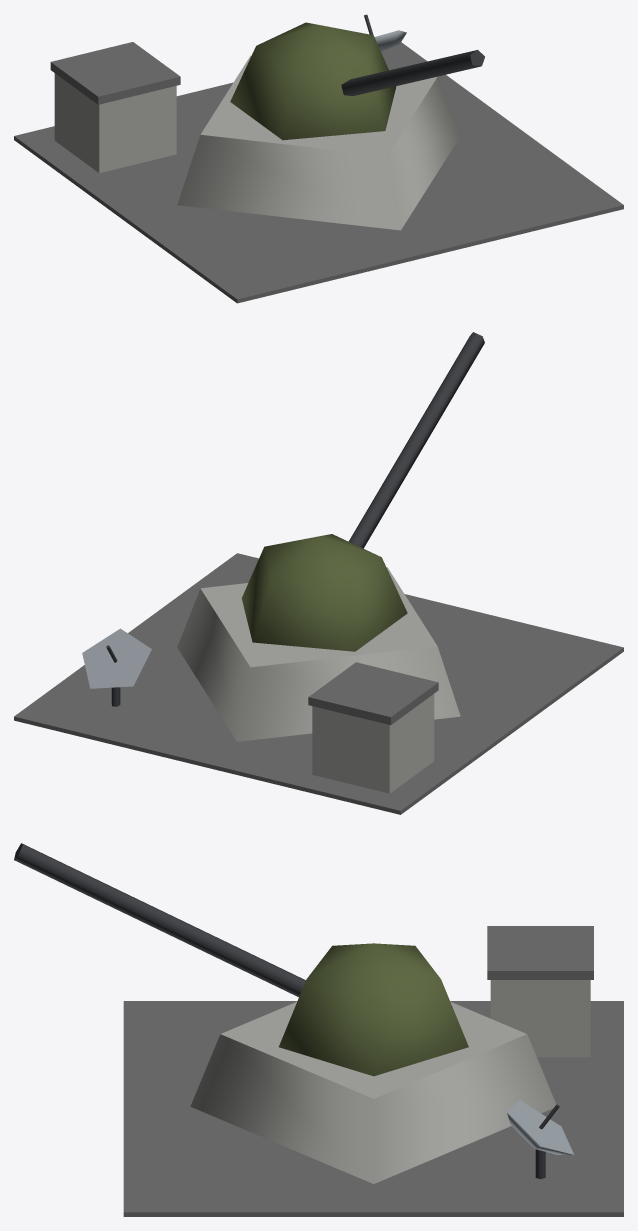
File: bld_special_planetary_defense_a07_lod2.glb
3 renders of one model, top to bottom at view 1: azimuth 30°, elevation 25°; view 2: azimuth 150°, elevation 25°; view 3: azimuth 270°, elevation 25°, orthographic. The views are drawn at different scales.
Visible parts, largest first — view 1: body, turret, antenna; view 2: body, turret, antenna; view 3: body, turret, antenna.
Part boxes in pixels (bbox=[...]): body: bbox=[14, 42, 623, 303]; turret: bbox=[230, 22, 484, 140]; antenna: bbox=[364, 14, 406, 51]; body: bbox=[14, 553, 623, 814]; turret: bbox=[241, 332, 484, 651]; antenna: bbox=[82, 628, 151, 706]; body: bbox=[123, 926, 623, 1216]; turret: bbox=[14, 843, 468, 1076]; antenna: bbox=[507, 1100, 573, 1179].
Bounding box in the file's own units: 15 × 8.85 × 18.29.
